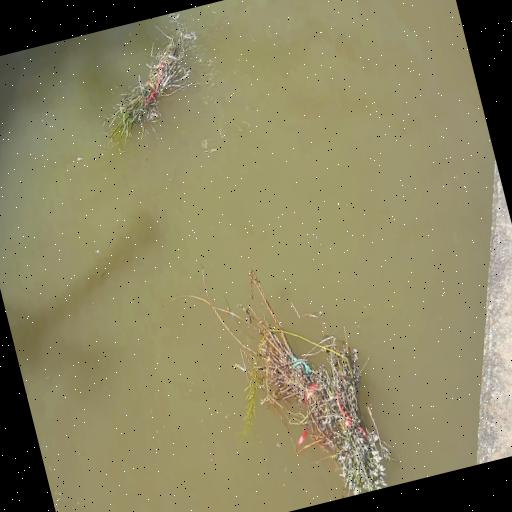twig: (172, 266, 394, 495), (108, 14, 196, 143)
